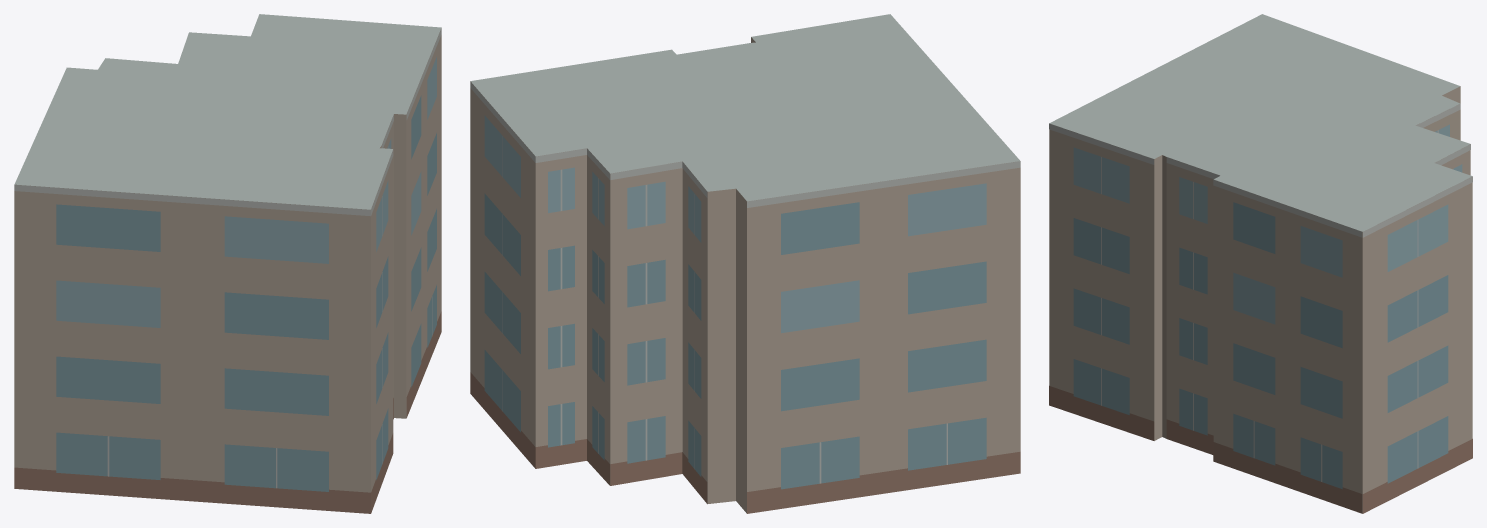
The model's file is survey-upis-32525286.glb.
3 renders of one model, left to right at view 1: azimuth 30°, elevation 25°; view 2: azimuth 150°, elevation 25°; view 3: azimuth 270°, elevation 25°, orthographic. The views are drawn at different scales.
Parts seen in each view (by area): view 1: survey-upis-32525286.tmp; view 2: survey-upis-32525286.tmp; view 3: survey-upis-32525286.tmp.
Part boxes in pixels (left/top/right/bottom): survey-upis-32525286.tmp: left=14, top=14, right=441, bottom=513; survey-upis-32525286.tmp: left=470, top=14, right=1020, bottom=513; survey-upis-32525286.tmp: left=1049, top=14, right=1472, bottom=513.
Size of the model in its own units: 19.06 by 11.5 by 15.67.
